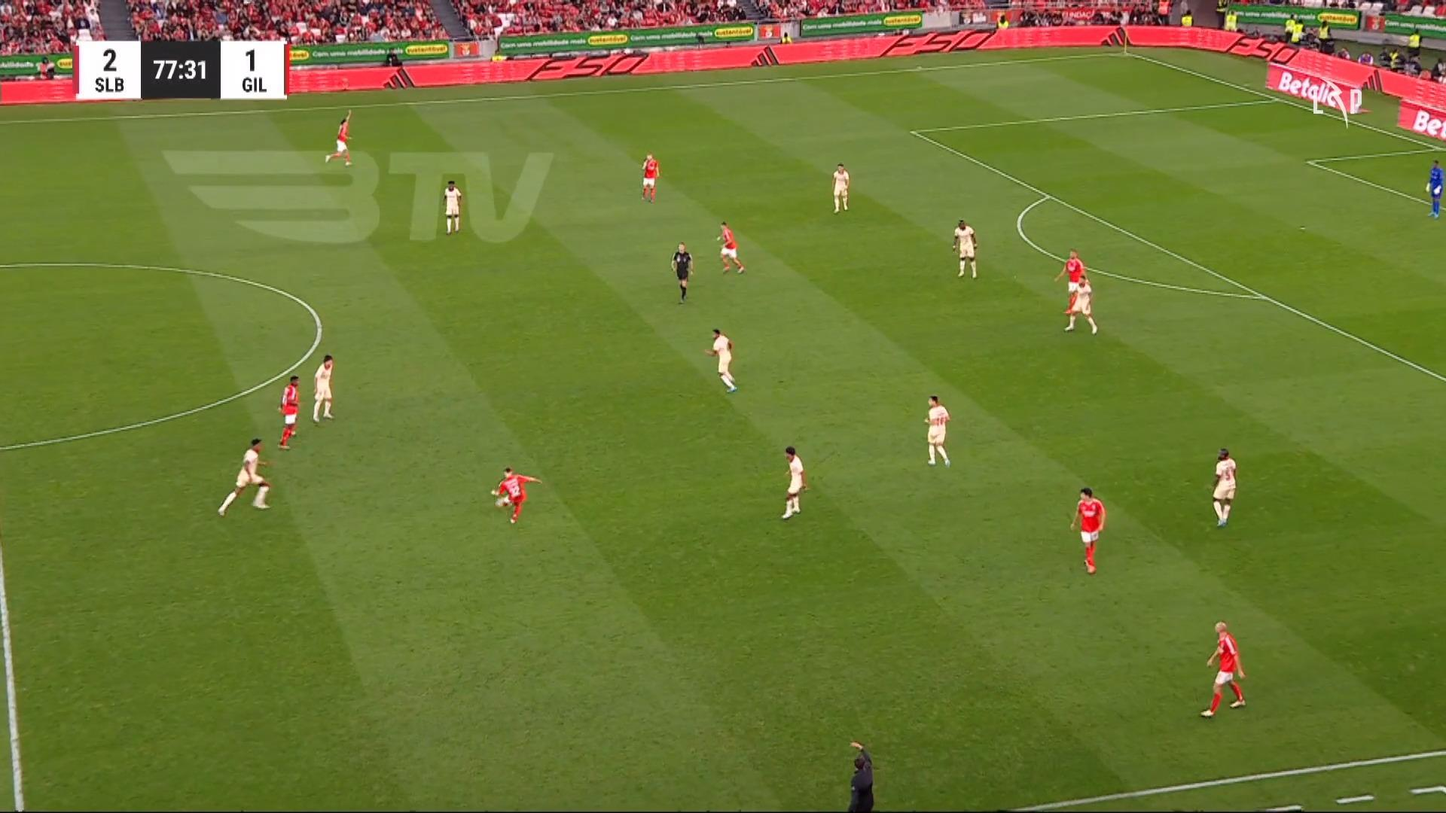ball: (490, 489, 499, 496)
goalkeeper: (1425, 158, 1444, 218)
player: (1199, 620, 1246, 717), (216, 437, 271, 517), (1069, 486, 1106, 574), (490, 466, 542, 525), (703, 327, 737, 393), (1210, 447, 1237, 527), (1063, 274, 1097, 334), (1054, 248, 1086, 310), (923, 394, 950, 467), (780, 446, 807, 519), (277, 374, 300, 449), (324, 108, 353, 167), (951, 218, 978, 279), (715, 220, 745, 274), (311, 354, 334, 423), (442, 180, 462, 234), (639, 153, 660, 202), (831, 163, 850, 213)
referee: (847, 741, 874, 811), (670, 242, 693, 303)
